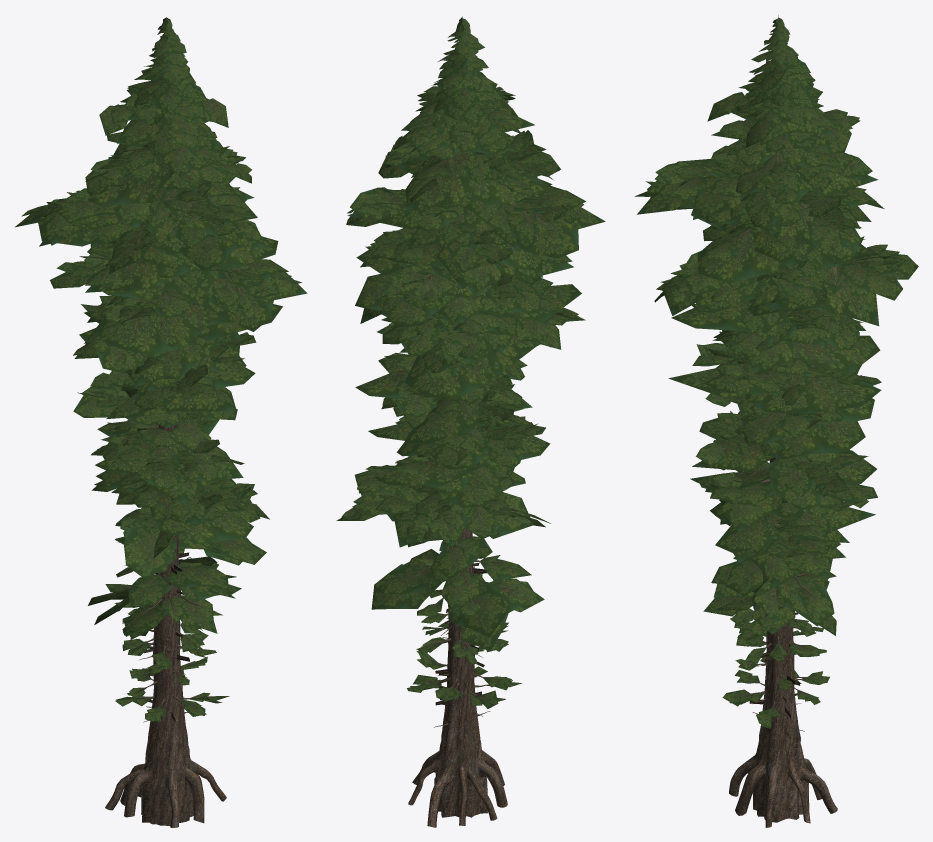
File: Redwood1_LOD0.fbx
The picture shows the model from 3 angles, left to right: view 1: azimuth 30°, elevation 25°; view 2: azimuth 150°, elevation 25°; view 3: azimuth 270°, elevation 25°; orthographic projection.
Visible parts, largest first — view 1: Flora_12, Flora_5, Stvol, Flora_10, Flora_6, Flora_9, Flora_8, Flora_14, Flora_11, Flora_4, Flora_3, Flora_7 (+7 smaller); view 2: Flora_12, Flora_10, Flora_6, Flora_5, Flora_9, Stvol, Flora_11, Flora_8, Flora_4, Flora_7, Flora_14, Flora_3 (+7 smaller); view 3: Flora_5, Flora_8, Flora_10, Flora_12, Flora_11, Stvol, Flora_6, Flora_14, Flora_9, Flora_7, Flora_4, Flora_13 (+7 smaller).
Part boxes in pixels (box(x1,y1,x2,y2)): Flora_12: box(15, 142, 265, 270); Flora_5: box(92, 479, 269, 579); Stvol: box(105, 17, 226, 827); Flora_10: box(50, 239, 307, 331); Flora_6: box(91, 417, 244, 504); Flora_9: box(73, 287, 282, 372); Flora_8: box(79, 328, 256, 411); Flora_14: box(99, 86, 228, 158); Flora_11: box(38, 187, 278, 273); Flora_4: box(116, 542, 241, 607); Flora_3: box(88, 584, 222, 639); Flora_7: box(73, 383, 237, 427); Flora_12: box(378, 130, 605, 258); Flora_10: box(355, 226, 573, 326); Flora_6: box(354, 416, 550, 507); Flora_5: box(336, 464, 550, 585); Flora_9: box(381, 278, 585, 372); Stvol: box(408, 16, 507, 827); Flora_11: box(346, 186, 543, 293); Flora_8: box(355, 323, 540, 417); Flora_4: box(371, 536, 531, 610); Flora_7: box(368, 374, 532, 443); Flora_14: box(393, 86, 534, 149); Flora_3: box(417, 572, 544, 650); Flora_5: box(690, 462, 875, 596); Flora_8: box(668, 330, 881, 414); Flora_10: box(654, 236, 918, 326); Flora_12: box(634, 151, 878, 228); Flora_11: box(675, 187, 884, 283); Stvol: box(729, 15, 837, 827); Flora_6: box(692, 404, 877, 510); Flora_14: box(707, 87, 860, 153); Flora_9: box(671, 300, 865, 349); Flora_7: box(705, 393, 874, 454); Flora_4: box(711, 557, 836, 635); Flora_13: box(711, 134, 843, 193).
Size of the model in its own units: 592 by 619 by 1912.
